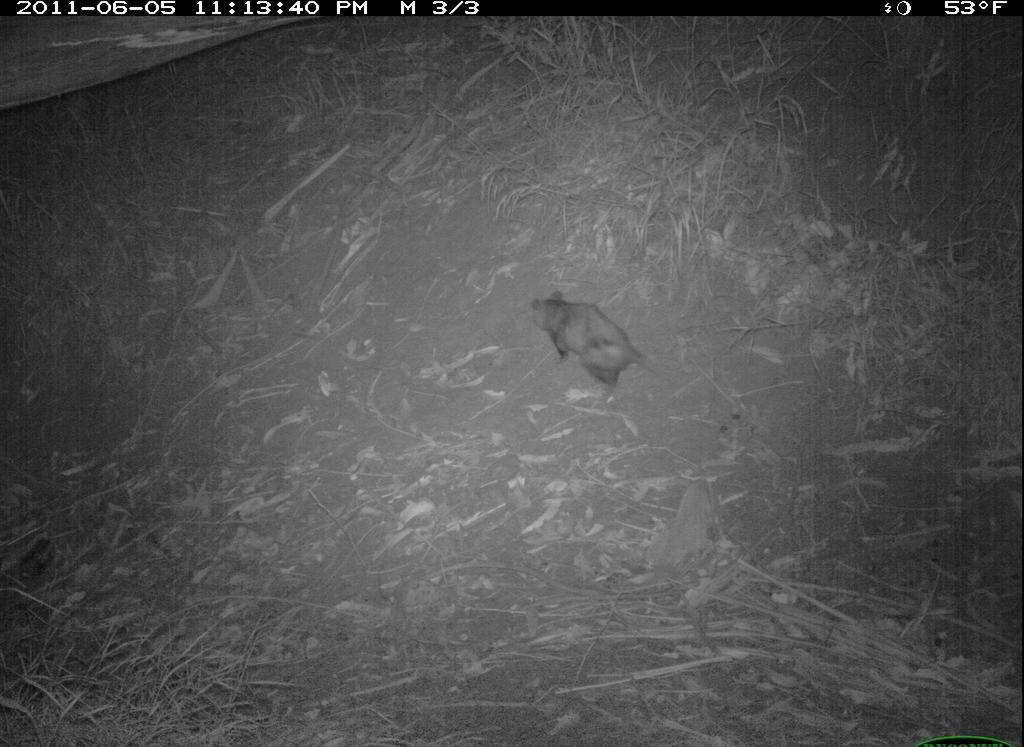opossum: (532, 287, 643, 397)
